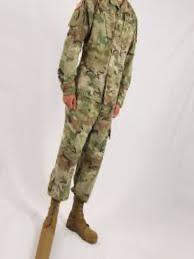uniform: (73, 2, 141, 250)
